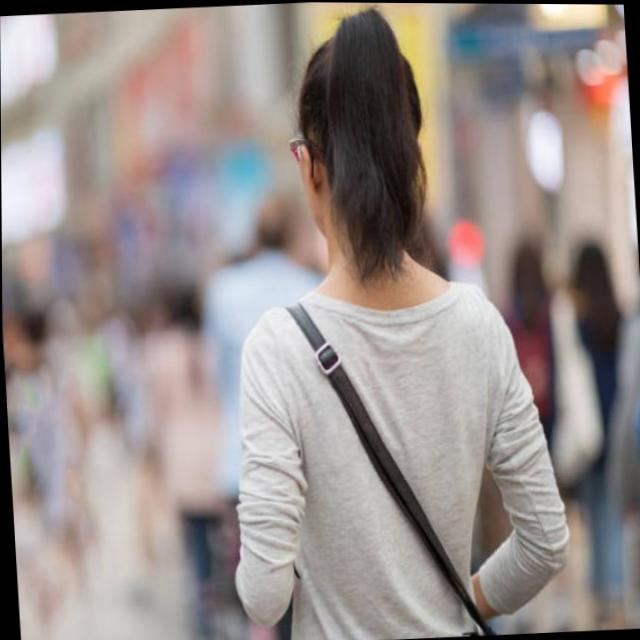no helmet: (282, 13, 443, 251)
